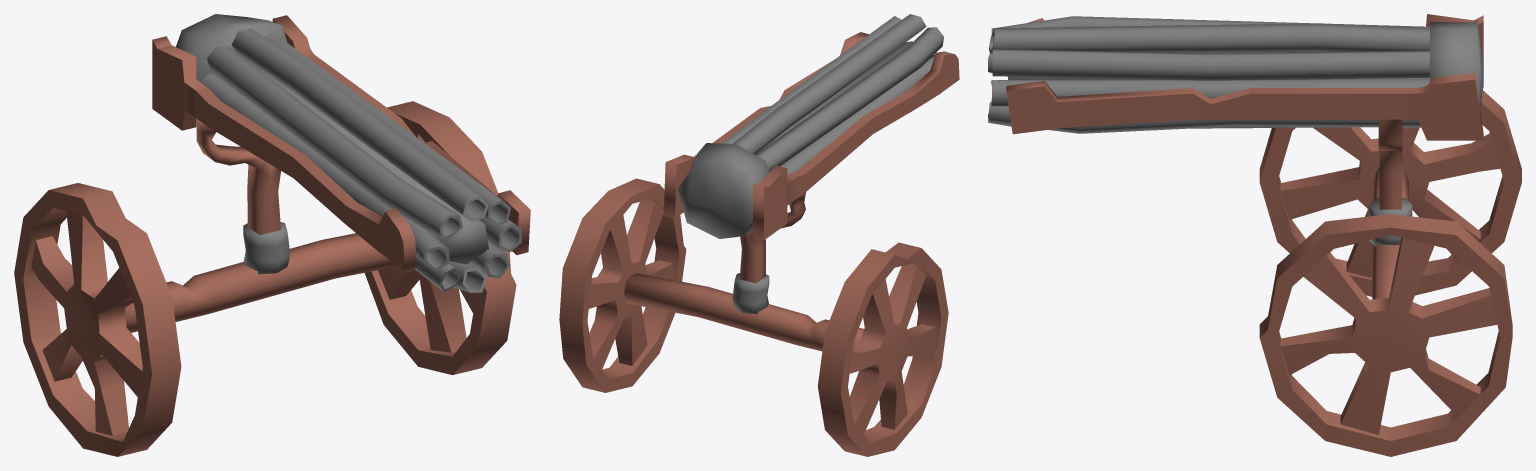
Rendered from Metralhadora_2.fbx.
3 renders of one model, left to right at view 1: azimuth 30°, elevation 25°; view 2: azimuth 150°, elevation 25°; view 3: azimuth 270°, elevation 25°, orthographic. The views are drawn at different scales.
Visible parts, largest first — view 1: Metralhadora_2; view 2: Metralhadora_2; view 3: Metralhadora_2.
Part boxes in pixels (bbox=[...]): Metralhadora_2: bbox=[14, 14, 530, 456]; Metralhadora_2: bbox=[559, 14, 959, 456]; Metralhadora_2: bbox=[988, 14, 1521, 456].
Size of the model in its own units: 1.79 by 1.35 by 1.28.
